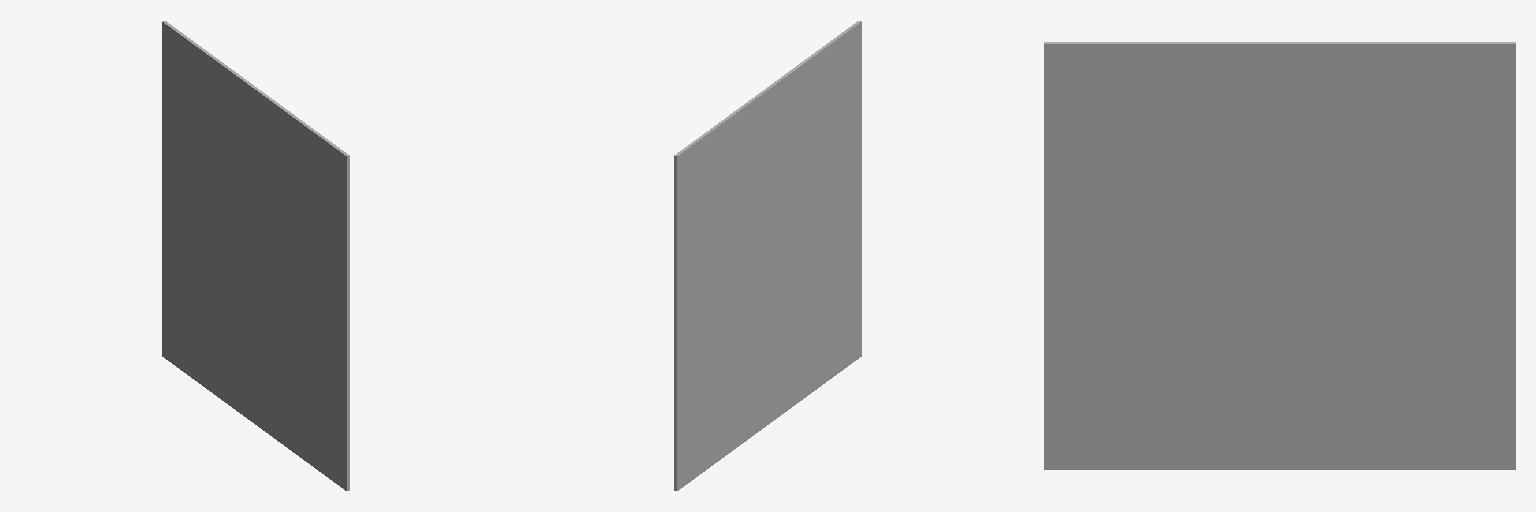
URDF robot description (door):
<?xml version="1.0" ?>
<robot name="door">
  <link name="skeleton">
    <collision>
      <origin rpy="0 0 0" xyz="0 0 0"/>
      <geometry> 
        <box size="0.005 0.5 0.5"/> 
      </geometry>
    </collision>
  </link>
  <link name="door_link">
    <visual>
      <origin rpy="0 0 0" xyz="0 0 0"/>
      <geometry> 
        <box size="0.005 0.5 0.5"/> 
      </geometry>
      <material name="">
        <color rgba="7.50E-01 7.50E-01 7.50E-01 1"/>
      </material>
    </visual>
    <collision>
      <origin rpy="0 0 0" xyz="0 0 0"/>
      <geometry> 
        <box size="0.005 0.5 0.5"/> 
      </geometry>
    </collision>
  </link>
  <link name="handle_link">
    <visual>
      <origin rpy="0 0 0" xyz="0 0 0"/>
      <geometry> 
        <mesh filename="decomposed.obj" scale="1.0000E+00 1.0000E+00 1.0000E+00"/>
      </geometry>
      <material name="">
        <color rgba="0.6 0.1 0.0 1"/>
      </material>
    </visual>
    <collision>
      <origin rpy="0 0 0" xyz="0 0 0"/>
      <geometry> 
        <mesh filename="decomposed.obj" scale="1.0000E+00 1.0000E+00 1.0000E+00"/>
      </geometry>
    </collision>
  </link>
  <joint name="door_joint" type="prismatic">
    <parent link="skeleton"/>
    <child link="door_link"/>
    <origin xyz="0.0 0.0 0.0" rpy="0 0 0"/>
    <axis xyz="1 0 0"/>
    <limit effort="1000.0" lower="0" upper="0.3" velocity="0.1"/>
    <dynamics damping="0.05" friction="0.025"/>
  </joint>
  <joint name="handle_joint" type="fixed">
    <parent link="door_link"/>
    <child link="handle_link"/>
    <origin xyz="0 0 0" rpy="0 0 0"/>
    <axis xyz="0 0 1"/>
  </joint>
</robot>

--- Render facts (derived) ---
3 views of the same robot in one strip: view 1: azimuth 30°, elevation 25°; view 2: azimuth 150°, elevation 25°; view 3: azimuth 270°, elevation 25° (orthographic).
Robot: door — 3 links, 2 joints (1 prismatic, 1 fixed); root link skeleton; default pose: every joint at zero.
Visible links, largest first — view 1: door_link; view 2: door_link; view 3: door_link.
Link boxes in pixels (x1,y1,x2,y2): door_link: (162, 21, 349, 490); door_link: (674, 21, 861, 490); door_link: (1044, 42, 1515, 469).
Bounding box of the posed robot: 0.005 × 0.5 × 0.5 m (x, y, z).
0 mesh visuals loaded from 1 distinct referenced files (none loaded); not drawn: 1 (reference not matched to a file when rendering).